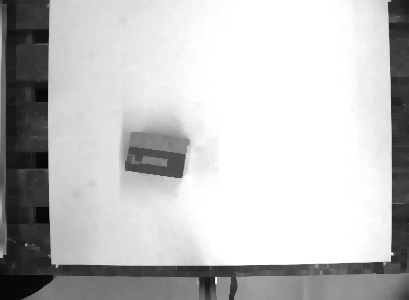b4: (123, 127, 192, 180)
